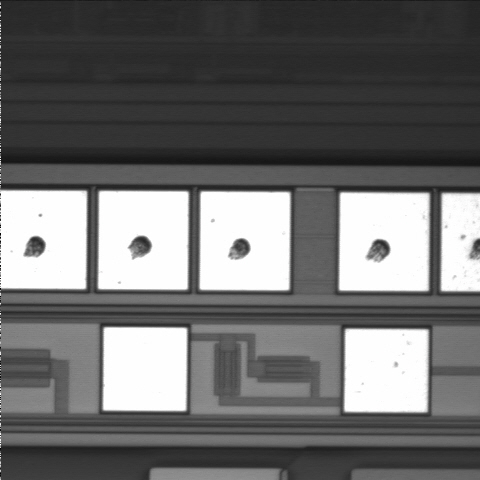pad: (98, 191, 188, 290), (200, 192, 290, 290), (339, 193, 429, 291), (103, 327, 187, 411), (344, 329, 428, 412)
